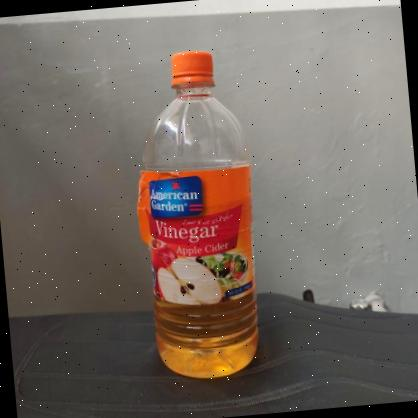bottle: (122, 47, 270, 383)
cap: (170, 50, 215, 88)
label: (136, 160, 260, 308)
